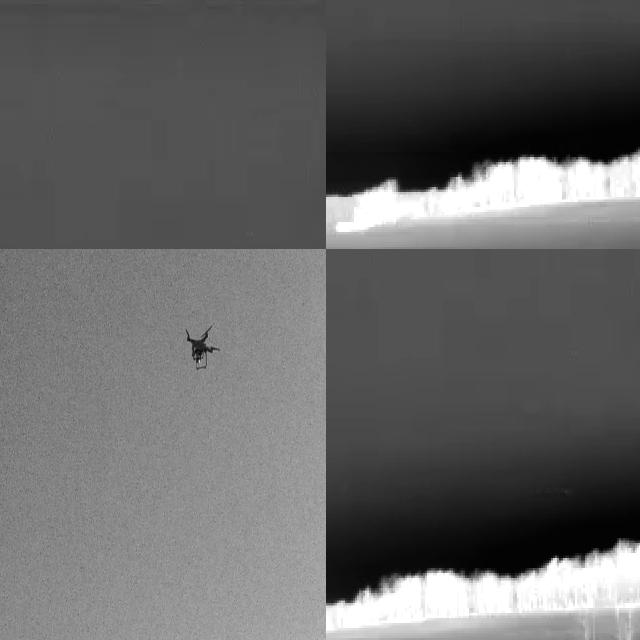0: (549, 483, 579, 511)
drone: (185, 324, 220, 374)
